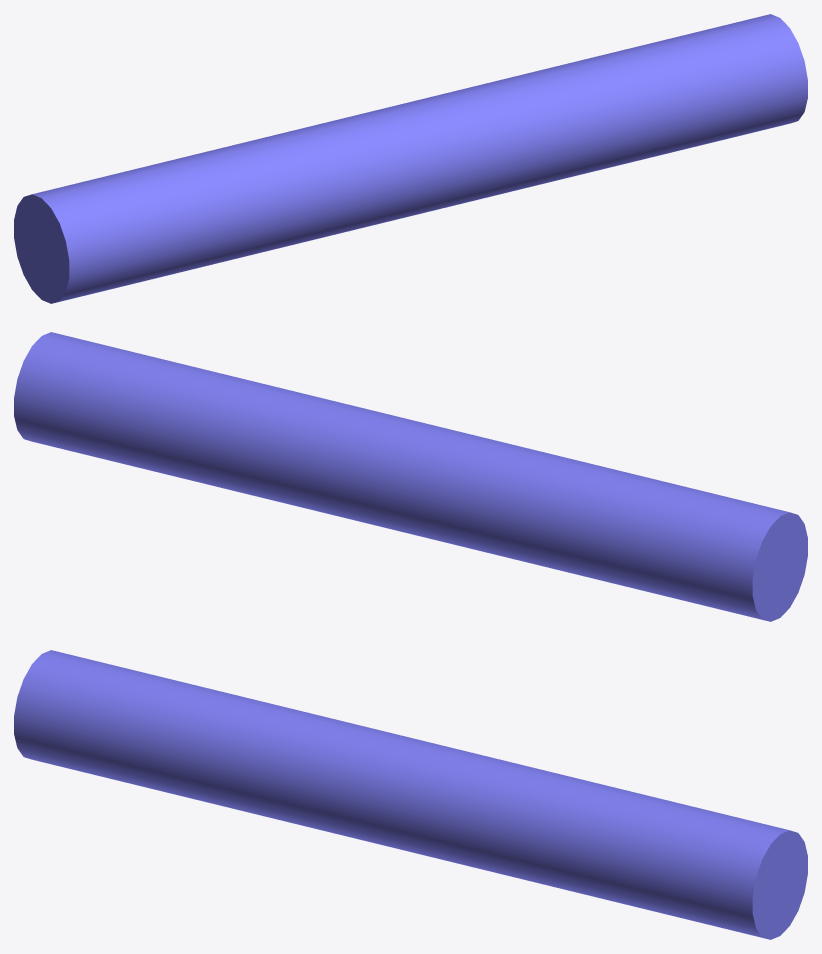
3 renders of one model, top to bottom at view 1: azimuth 30°, elevation 25°; view 2: azimuth 150°, elevation 25°; view 3: azimuth 330°, elevation 25°, orthographic.
Parts seen in each view (by area): view 1: Cylinder001; view 2: Cylinder001; view 3: Cylinder001.
Boxes of the visible parts, x1,y1,x2,y2 form: Cylinder001: [14, 14, 807, 303]; Cylinder001: [14, 332, 807, 621]; Cylinder001: [14, 650, 807, 939].
Bounding box in the file's own units: 4.56 × 0.6 × 0.5909.
